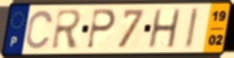7: (116, 8, 146, 50)
C: (24, 9, 55, 51)
H: (146, 8, 183, 50)
I: (183, 6, 201, 51)
P: (85, 8, 118, 51)
R: (50, 8, 84, 51)
